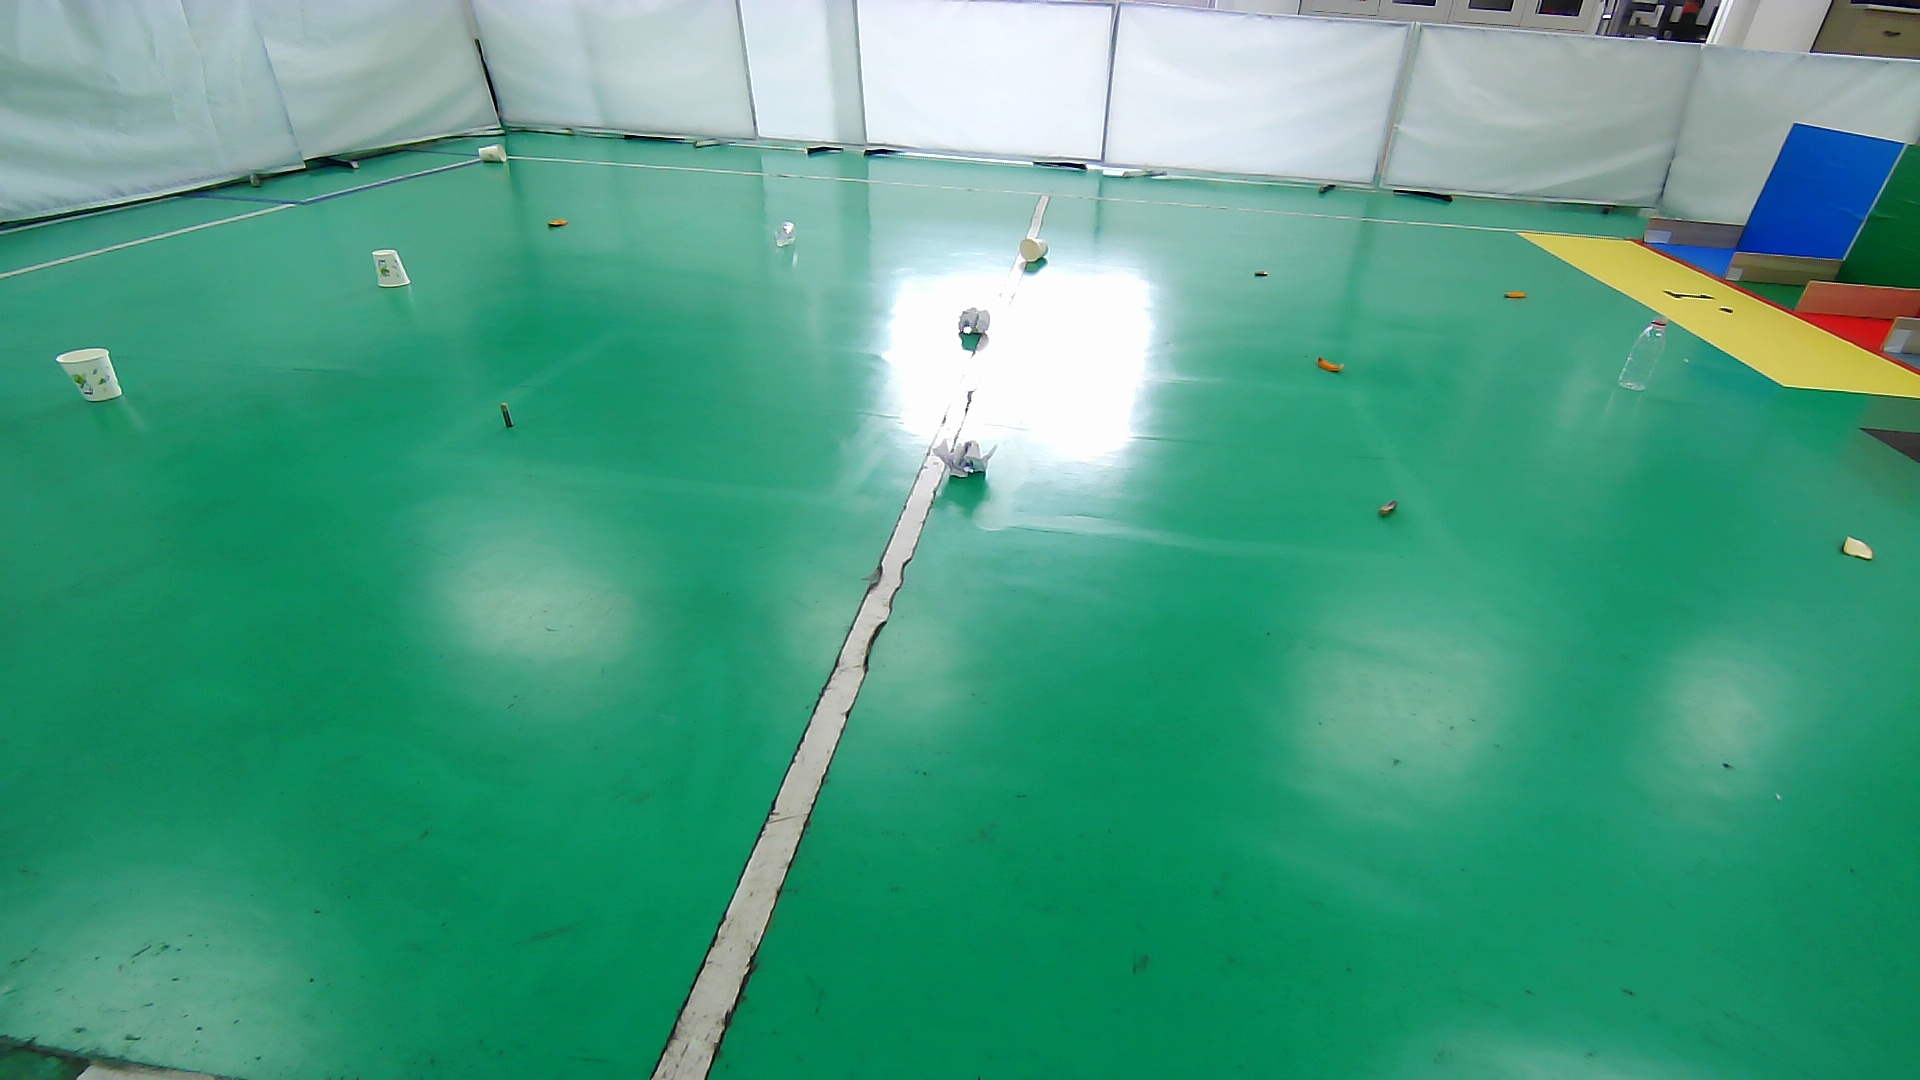battery: (1371, 493, 1404, 525), (495, 398, 520, 433), (1247, 264, 1275, 284)
bottle: (1614, 313, 1669, 394), (771, 218, 800, 251)
orangepeel: (1830, 527, 1884, 567), (1309, 352, 1352, 378), (1499, 284, 1534, 306), (542, 212, 574, 236)
papercup: (54, 344, 131, 405), (371, 247, 411, 287), (1017, 235, 1051, 266), (476, 142, 510, 165)
spitball: (932, 435, 1000, 479), (956, 305, 994, 340)
